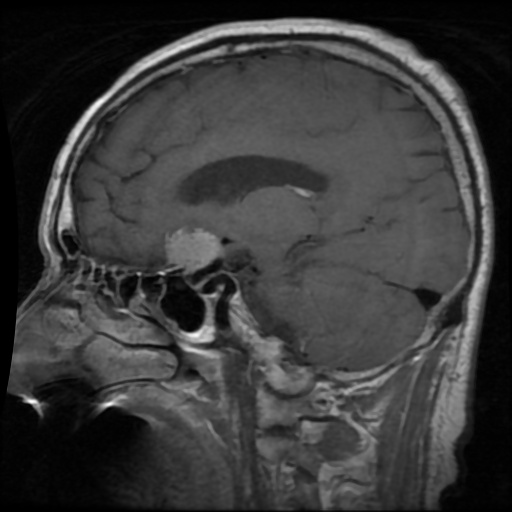pituitary: (165, 228, 221, 271)
